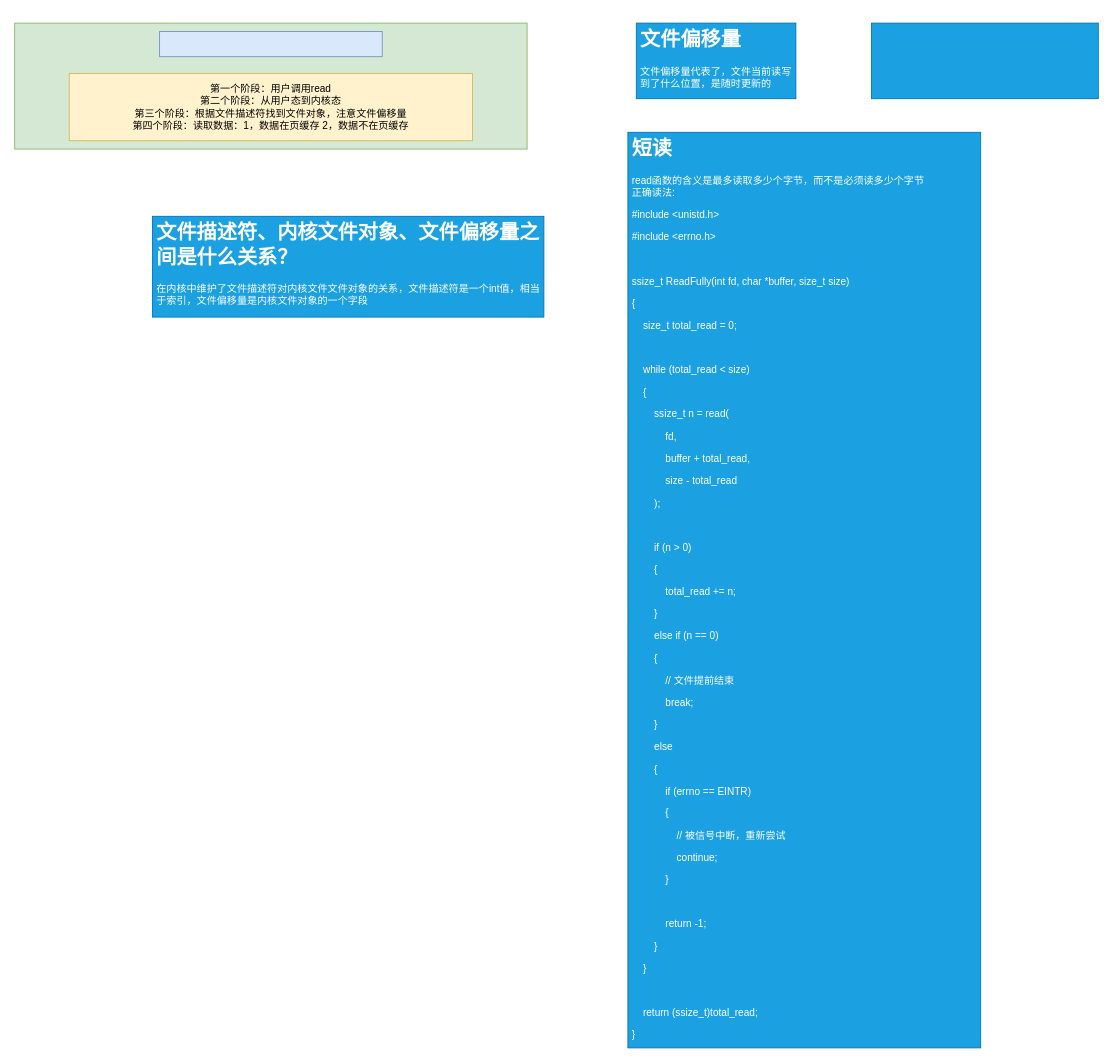
The diagram is 1113 pixels wide and 1063 high, and some of its shapes have lost their labels. Each missing label, with the centre of its shape:
write函数 write成功不意味着数据成功落盘，需要手动调用fsync，打开写入的文件偏移量会移动到文件末尾: the point at 984,60
操作系统如何把磁盘文件的数据读入内存？: the point at 270,44
